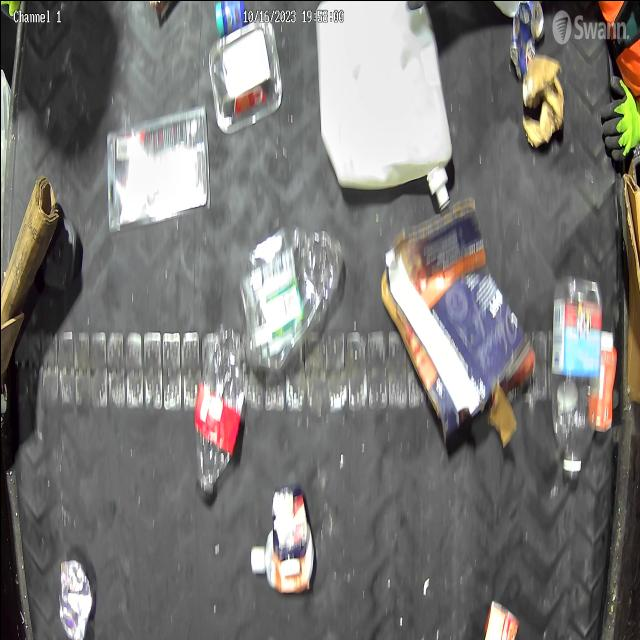can: (46, 544, 96, 640), (508, 1, 544, 82), (480, 594, 526, 640)
milk_jug: (313, 1, 452, 210)
plastic_bottle: (238, 228, 342, 364), (545, 273, 601, 481), (191, 324, 248, 490)
